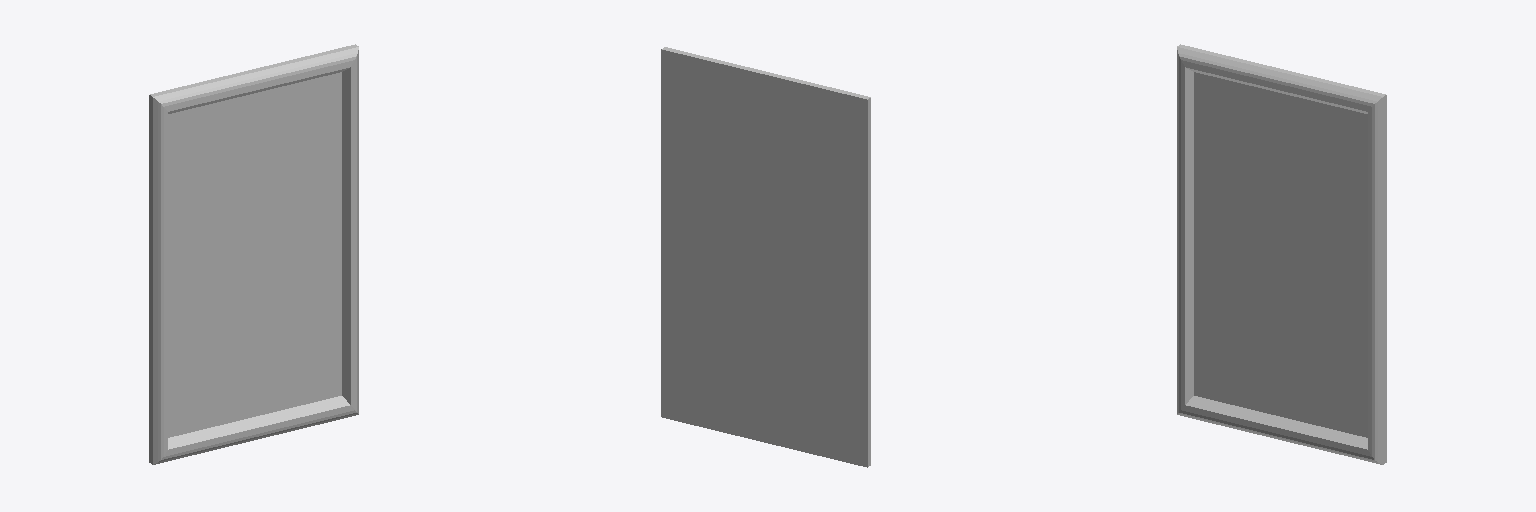
File: PictureFrame.obj
3 renders of one model, left to right at view 1: azimuth 30°, elevation 25°; view 2: azimuth 150°, elevation 25°; view 3: azimuth 330°, elevation 25°, orthographic.
Parts seen in each view (by area): view 1: Cube_Cube.001; view 2: Cube_Cube.001; view 3: Cube_Cube.001.
Boxes of the visible parts, box(x1,y1,x2,y2) form: Cube_Cube.001: box(149, 44, 358, 464); Cube_Cube.001: box(661, 47, 870, 467); Cube_Cube.001: box(1177, 44, 1386, 464).
Bounding box in the file's own units: 2 × 3.41 × 0.1167.